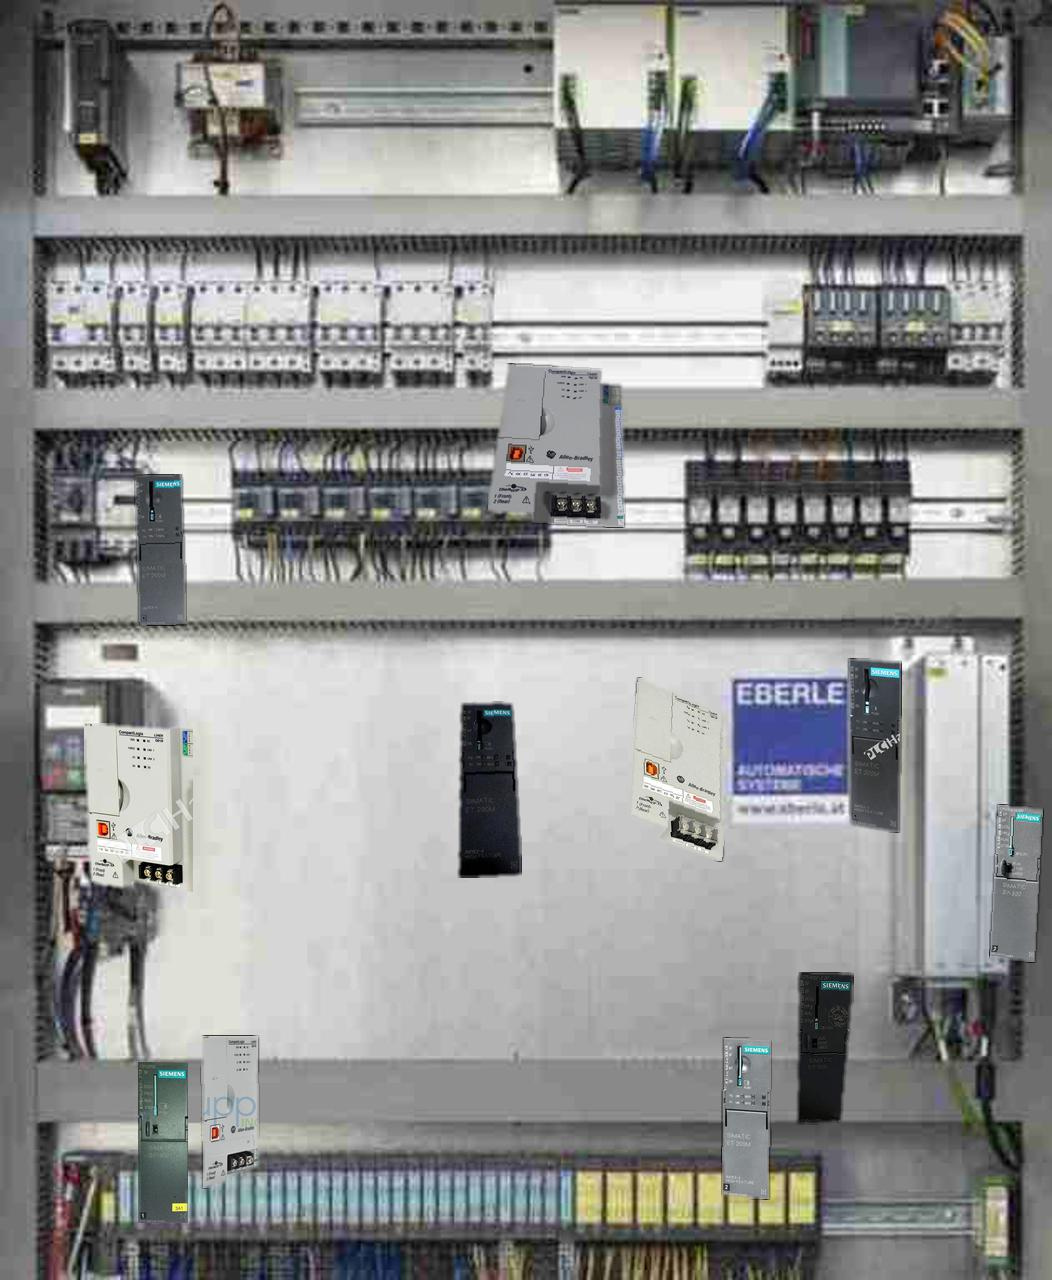AllenBradley: (488, 364, 623, 526), (84, 723, 192, 891), (630, 678, 722, 860), (202, 1035, 257, 1188)
Siemens: (797, 972, 853, 1122), (990, 805, 1042, 961), (138, 1062, 187, 1222)
